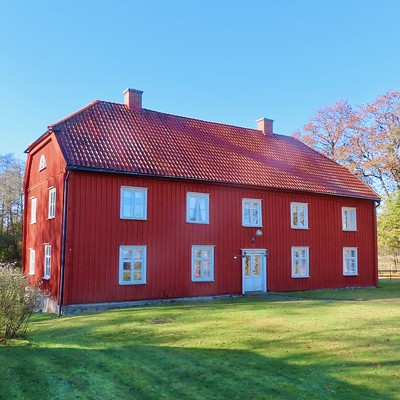medium: (20, 86, 384, 320)
